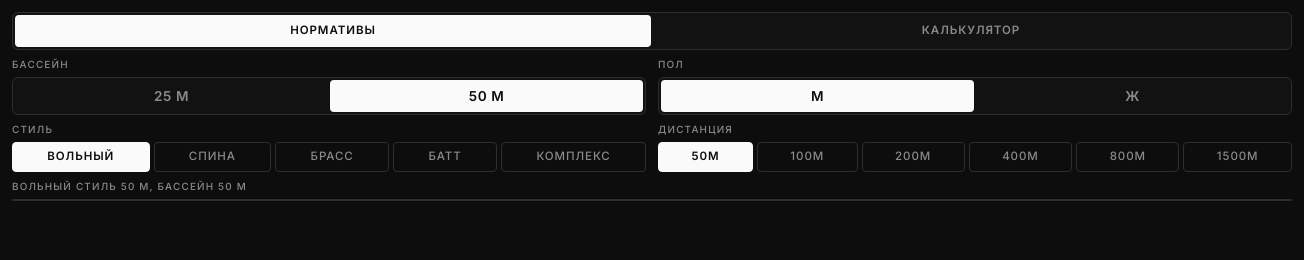
Scenario: the two modes on one page › keeps every choice the reader made when the mode switches
The width and height of the screenshot is (1304, 260).
Click the radio button labelled "25 м": (172, 96) left=15, top=80, right=328, bottom=112
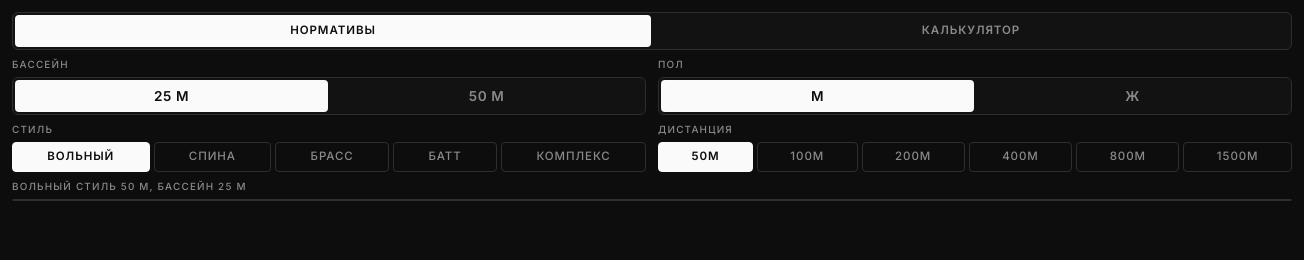
Click the radio button labelled "Ж": (1132, 96) left=976, top=80, right=1289, bottom=112
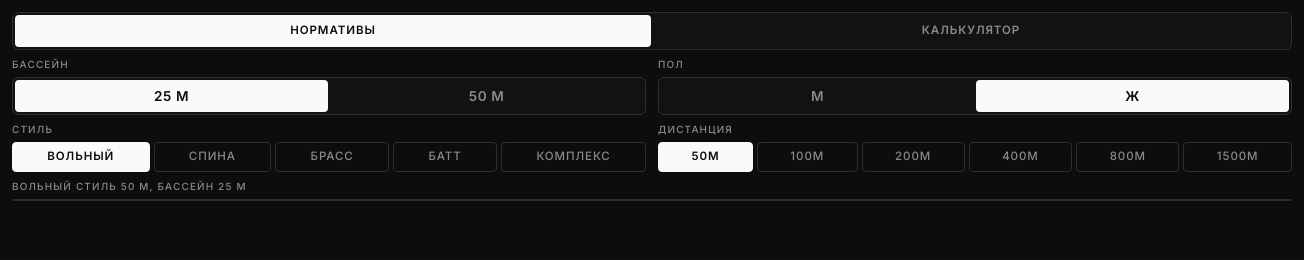
Click the radio button labelled "Брасс": (332, 157) left=275, top=142, right=389, bottom=172
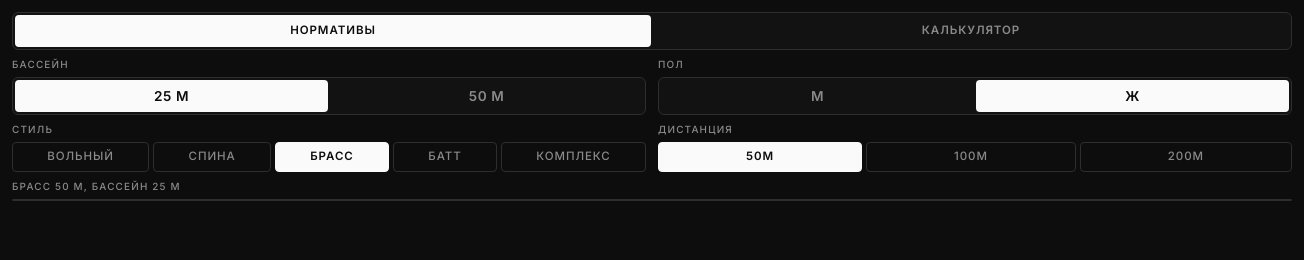
Click the radio button labelled "200м": (1186, 157) left=1080, top=142, right=1292, bottom=172
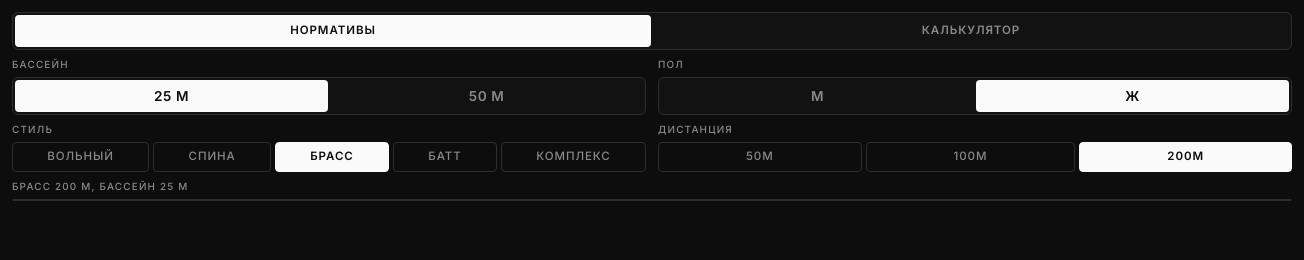
Click the tab "Калькулятор": (971, 31) left=653, top=15, right=1289, bottom=47
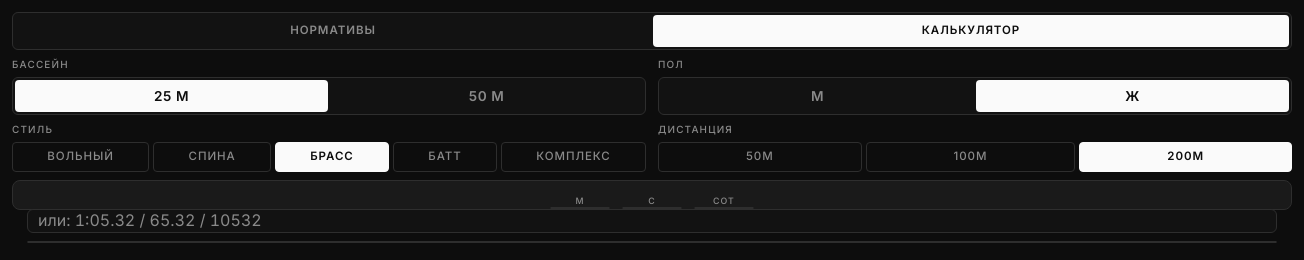
Check: the radio button labelled "25 м" is shown, box left=15, top=80, right=328, bottom=112
Check: the radio button labelled "Брасс" is shown, box left=275, top=142, right=389, bottom=172
Click the tab "Нормативы": (333, 31) left=15, top=15, right=651, bottom=47
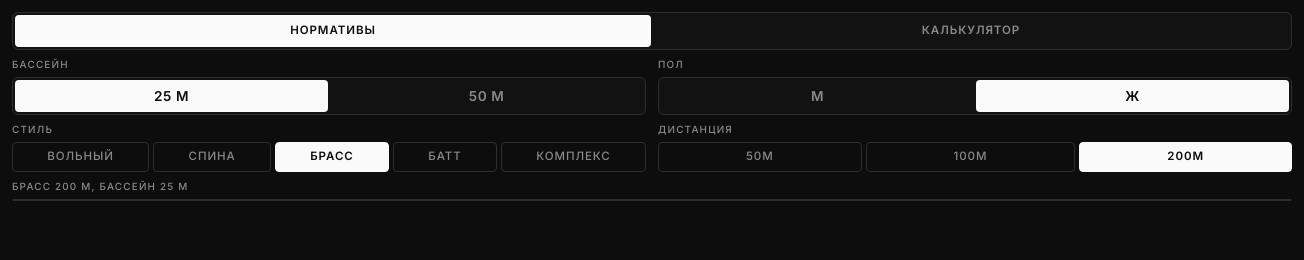
Check: the heading reads "Брасс 200 м, бассейн 25 м", box left=12, top=180, right=188, bottom=192
